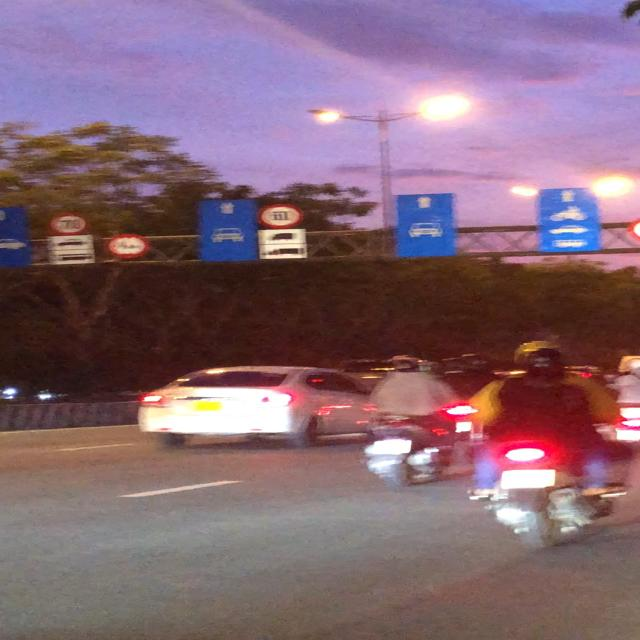Bien bao han che chieu cao: (98, 228, 149, 258)
Bien bao toc do toi da cho phep: (255, 198, 303, 228), (44, 209, 88, 235)
